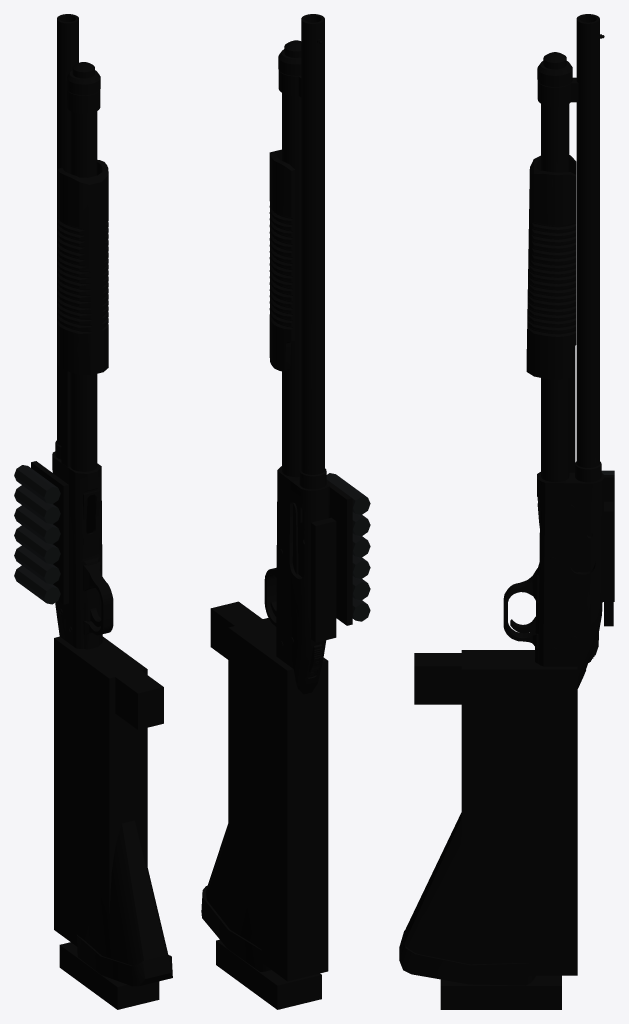
Rendered from M590__Mount_ScopeBase__RecoilPad_Rubber__Sidesaddle_Shotgun__Stock_M590_PistolGrip.fbx.
The picture shows the model from 3 angles, left to right: view 1: azimuth 30°, elevation 25°; view 2: azimuth 210°, elevation 25°; view 3: azimuth 270°, elevation 25°; orthographic projection. The views are drawn at different scales.
Visible parts, largest first — view 1: asset_M590.001; view 2: asset_M590.001; view 3: asset_M590.001.
Boxes of the visible parts, bbox=[...] form: asset_M590.001: bbox=[14, 14, 172, 1009]; asset_M590.001: bbox=[201, 14, 370, 1009]; asset_M590.001: bbox=[399, 14, 614, 1009].
Bounding box in the file's own units: 0.0447 × 0.615 × 0.1224.
